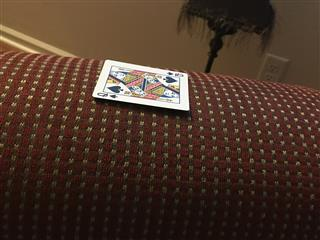QueenOfSpades: (90, 58, 190, 111)
